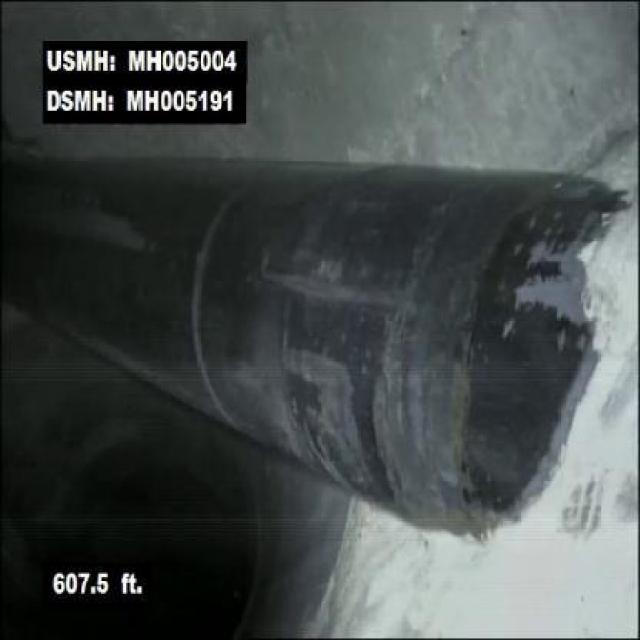Utility intrusion: (88, 130, 624, 568)
